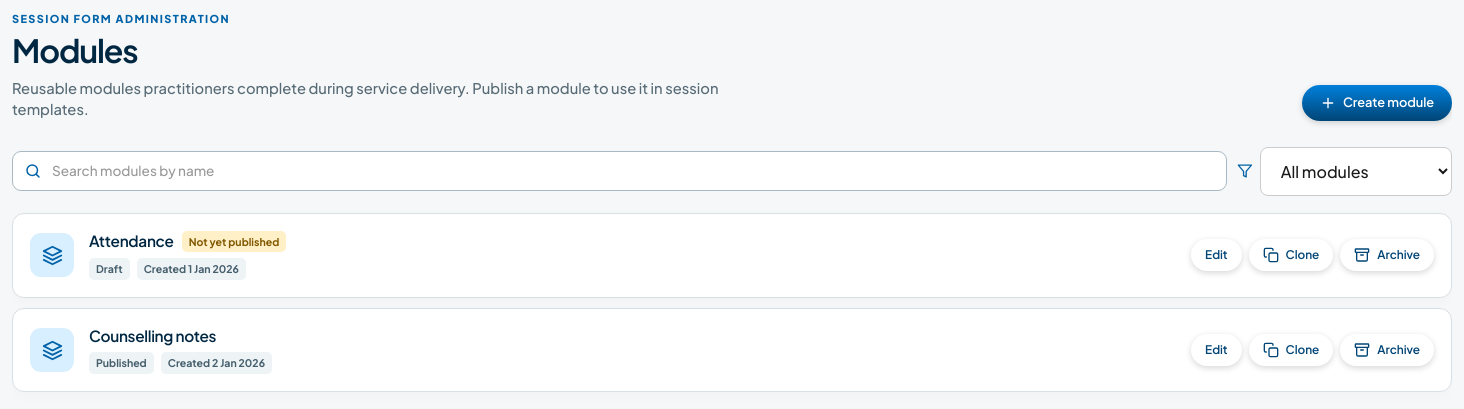
ModulesList › filters to published or not-yet-published modules
This screenshot has width=1464, height=409.
Expected: the heading "Attendance" is shown, [89,232,174,252]
Select "Published" in the dropdown named "Filter by status" at {"x": 1356, "y": 171}, box [1260,146,1452,196]
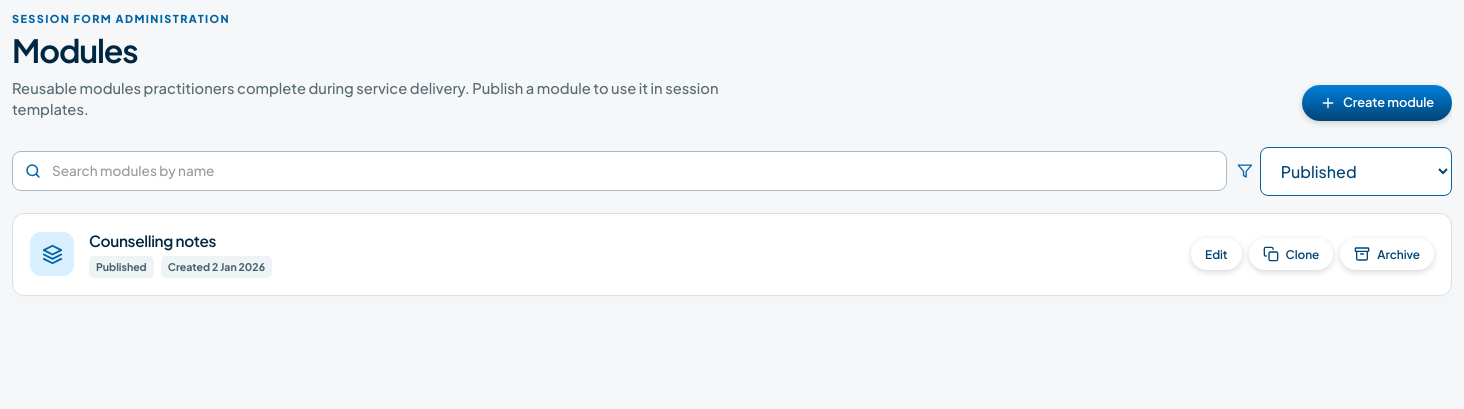
Expected: the heading "Counselling notes" is shown, [89,230,216,250]
Now the heading "Attendance" is gone
